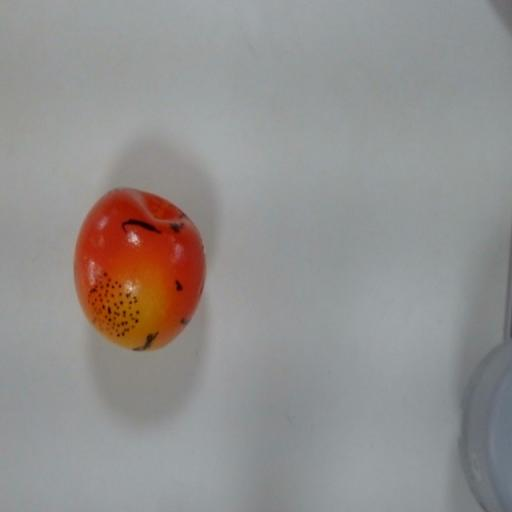Defective: (489, 0, 511, 32)
